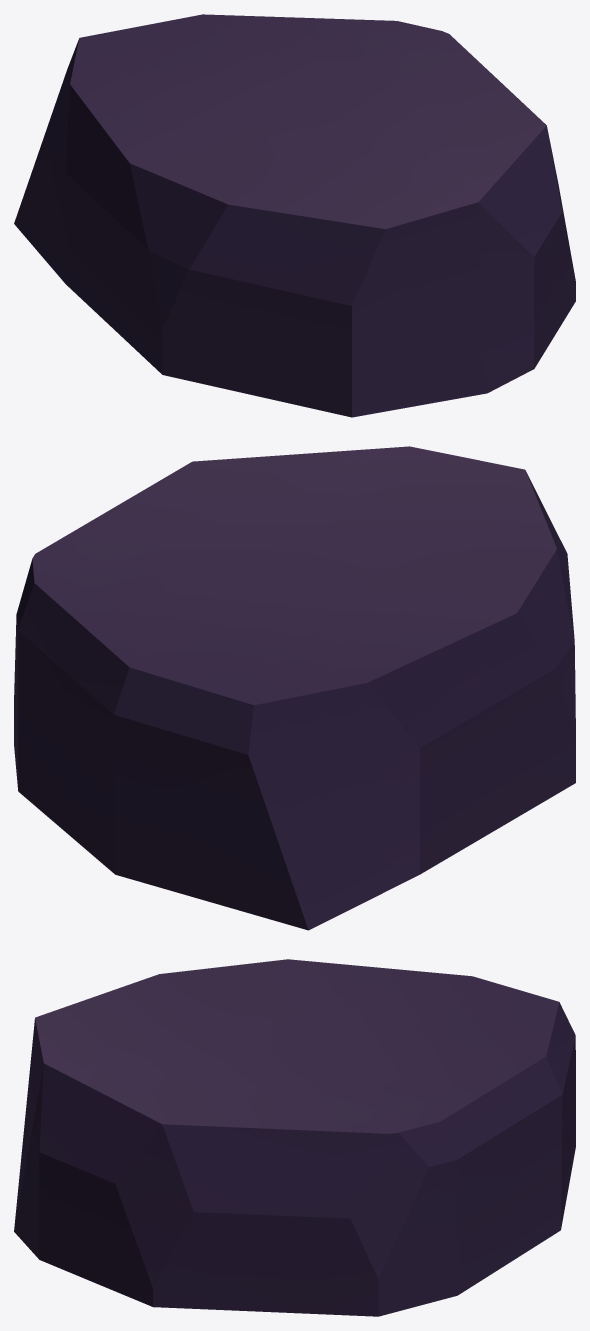
The model's file is CaveRock07.fbx.
3 renders of one model, top to bottom at view 1: azimuth 30°, elevation 25°; view 2: azimuth 150°, elevation 25°; view 3: azimuth 270°, elevation 25°, orthographic. The views are drawn at different scales.
Visible parts, largest first — view 1: Cylinder.196; view 2: Cylinder.196; view 3: Cylinder.196.
Part boxes in pixels (x1=…): Cylinder.196: x1=14, y1=14, x2=575, y2=417; Cylinder.196: x1=14, y1=446, x2=575, y2=930; Cylinder.196: x1=14, y1=959, x2=575, y2=1316.
Size of the model in its own units: 1024 by 430 by 1277.
